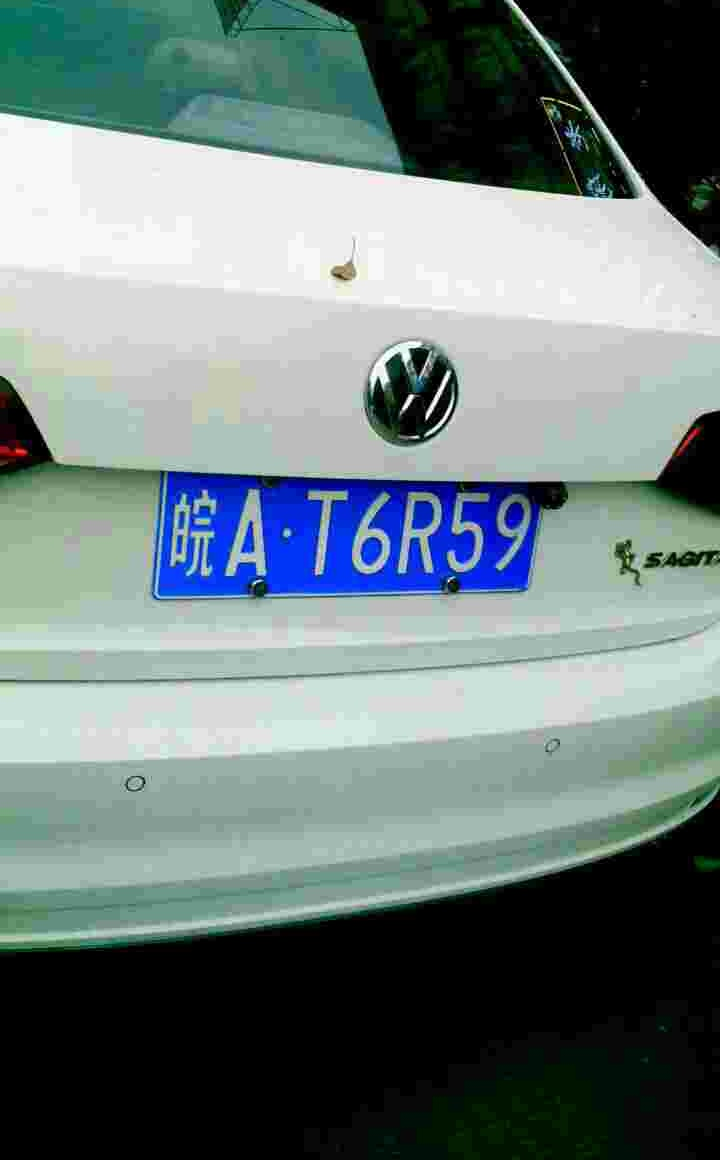license_plate: (137, 466, 570, 592)
